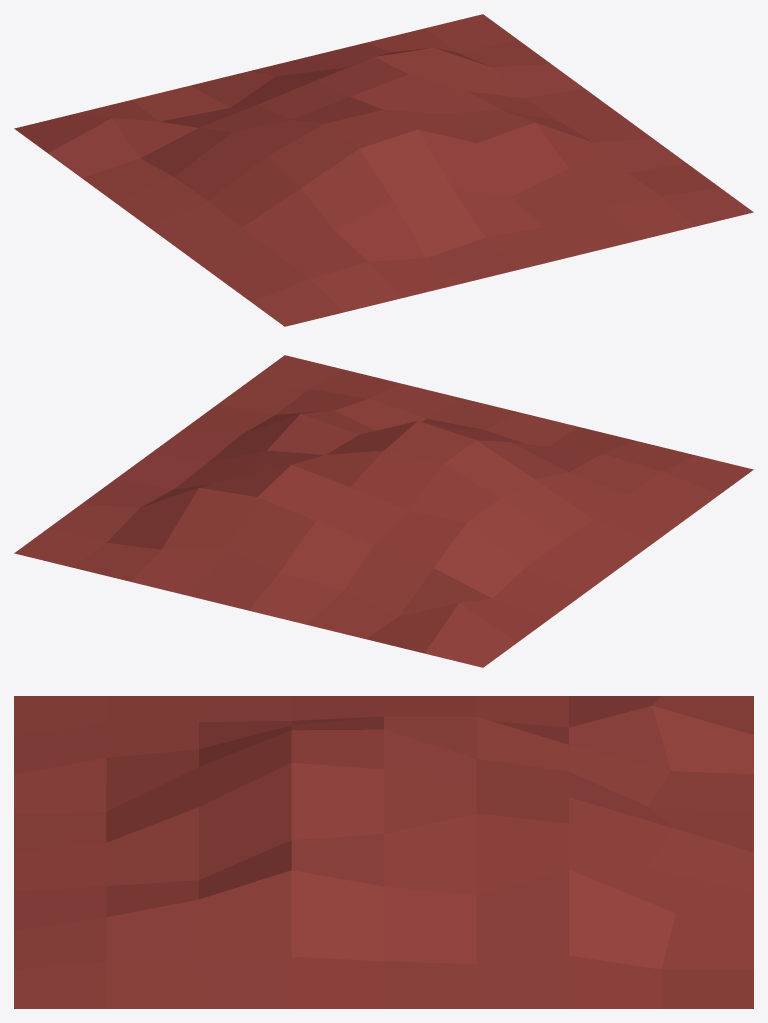
File: Terrain_7_Red.fbx
3 views of the same model, one above another, from view 1: azimuth 30°, elevation 25°; view 2: azimuth 150°, elevation 25°; view 3: azimuth 270°, elevation 25° (orthographic). The views are drawn at different scales.
Parts seen in each view (by area): view 1: Terrain_7_Red; view 2: Terrain_7_Red; view 3: Terrain_7_Red.
Part boxes in pixels (x1=…): Terrain_7_Red: x1=14, y1=14, x2=753, y2=326; Terrain_7_Red: x1=14, y1=355, x2=753, y2=667; Terrain_7_Red: x1=14, y1=696, x2=753, y2=1008.
Bounding box in the file's own units: 4000 × 535 × 4000.
